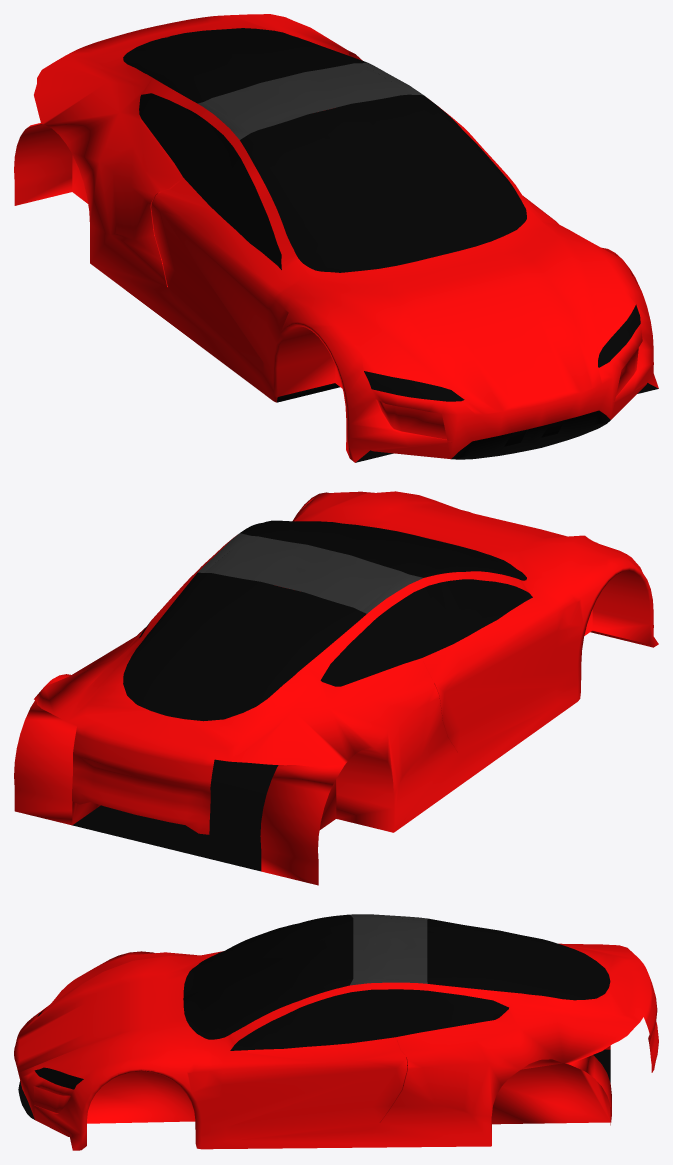
Rendered from car.glb.
3 renders of one model, top to bottom at view 1: azimuth 30°, elevation 25°; view 2: azimuth 150°, elevation 25°; view 3: azimuth 270°, elevation 25°, orthographic. The views are drawn at different scales.
Visible parts, largest first — view 1: Plane, Plane.010, Plane.009, Plane.012, Plane.004, Plane.006, Plane.011; view 2: Plane, Plane.010, Plane.009, Plane.011, Plane.012; view 3: Plane, Plane.010, Plane.009, Plane.012, Plane.006.
Boxes of the visible parts, x1,y1,x2,y2 form: Plane: [14, 14, 658, 462]; Plane.010: [123, 28, 526, 272]; Plane.009: [139, 93, 281, 269]; Plane.012: [198, 62, 423, 139]; Plane.004: [451, 410, 610, 459]; Plane.006: [364, 304, 640, 401]; Plane.011: [277, 383, 658, 462]; Plane: [14, 491, 658, 885]; Plane.010: [123, 520, 526, 721]; Plane.009: [139, 579, 532, 686]; Plane.011: [72, 759, 278, 871]; Plane.012: [198, 533, 422, 613]; Plane: [14, 943, 658, 1150]; Plane.010: [183, 914, 610, 1039]; Plane.009: [230, 918, 508, 1050]; Plane.012: [350, 914, 427, 985]; Plane.006: [34, 1009, 83, 1089].
Size of the model in its own units: 1.24 by 0.7325 by 2.89.
